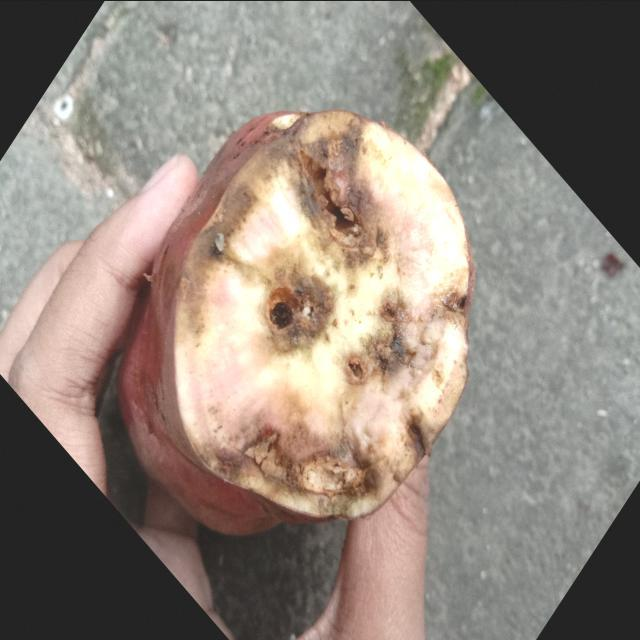Sick Sweet Potato_Tuber Rot: (152, 110, 472, 532)
